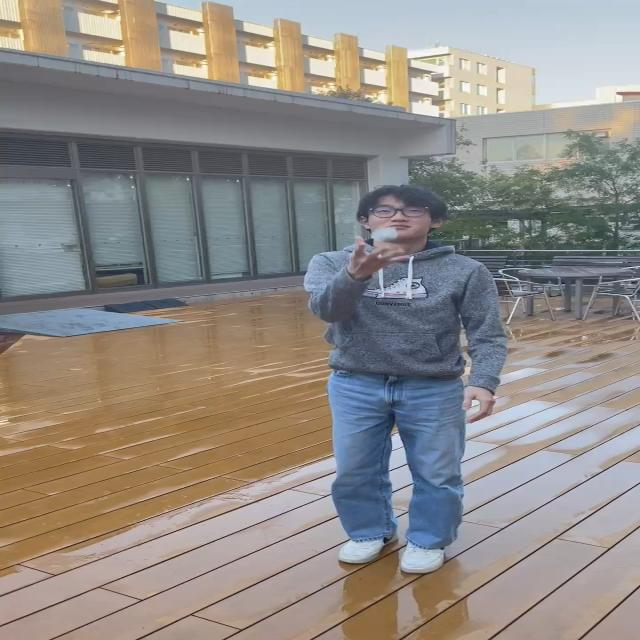paper: (372, 229, 398, 241)
